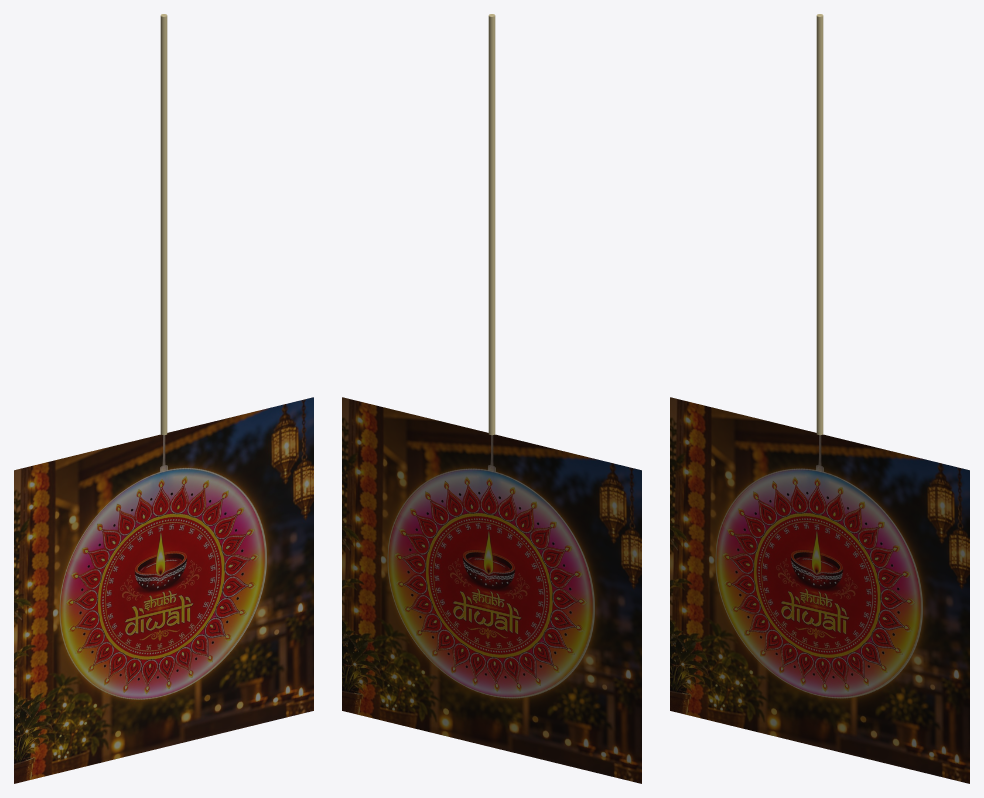
Rendered from B0FGW5BYDF.glb.
3 views of the same model, side by side, from view 1: azimuth 30°, elevation 25°; view 2: azimuth 150°, elevation 25°; view 3: azimuth 330°, elevation 25° (orthographic).
Parts seen in each view (by area): view 1: photo, string; view 2: photo, string; view 3: photo, string.
Part boxes in pixels (box(x1,y1,x2,y2)): photo: box(14, 397, 313, 783); string: box(160, 14, 167, 435); photo: box(342, 397, 641, 783); string: box(488, 14, 495, 435); photo: box(670, 397, 969, 783); string: box(816, 14, 823, 435).
Bounding box in the file's own units: 0.3 × 0.7 × 0.006.
1 material, 1 textured.
